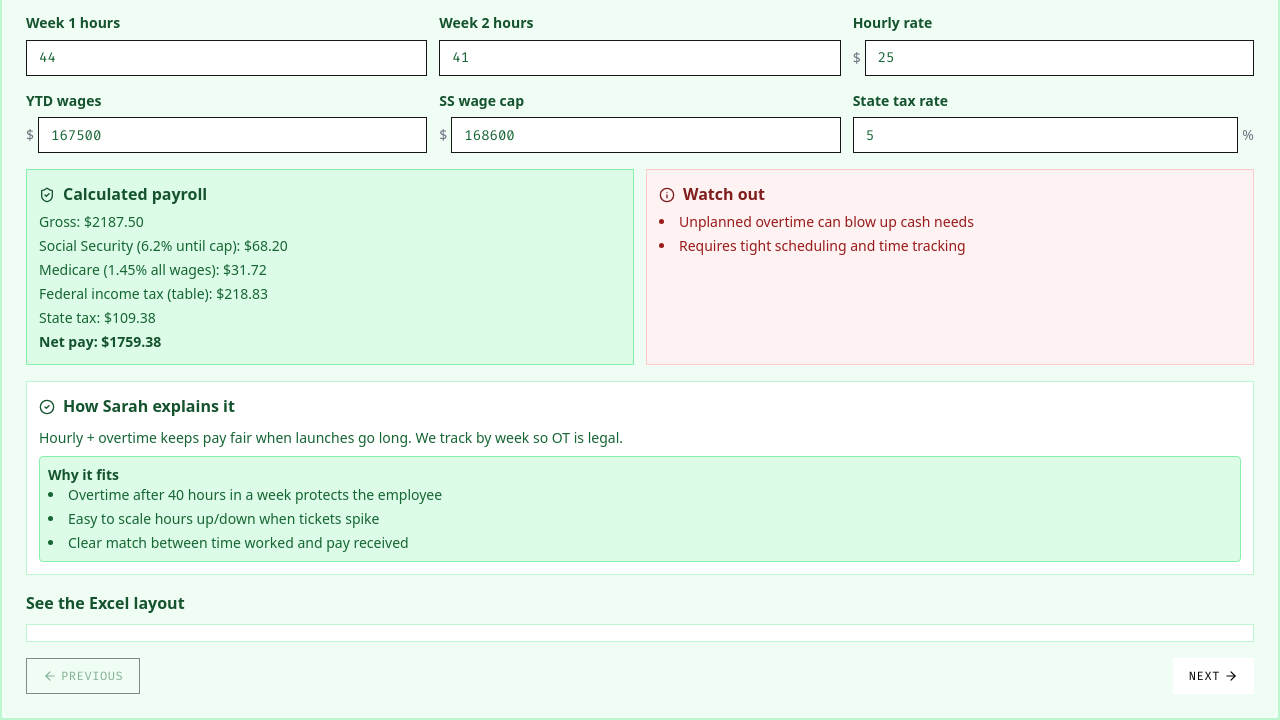
Test case: PayStructureDecisionLab › navigates to next scenario
(page scrolled)
Click the button "Next": {"x": 1213, "y": 676} [1173,658,1254,694]
(page scrolled)
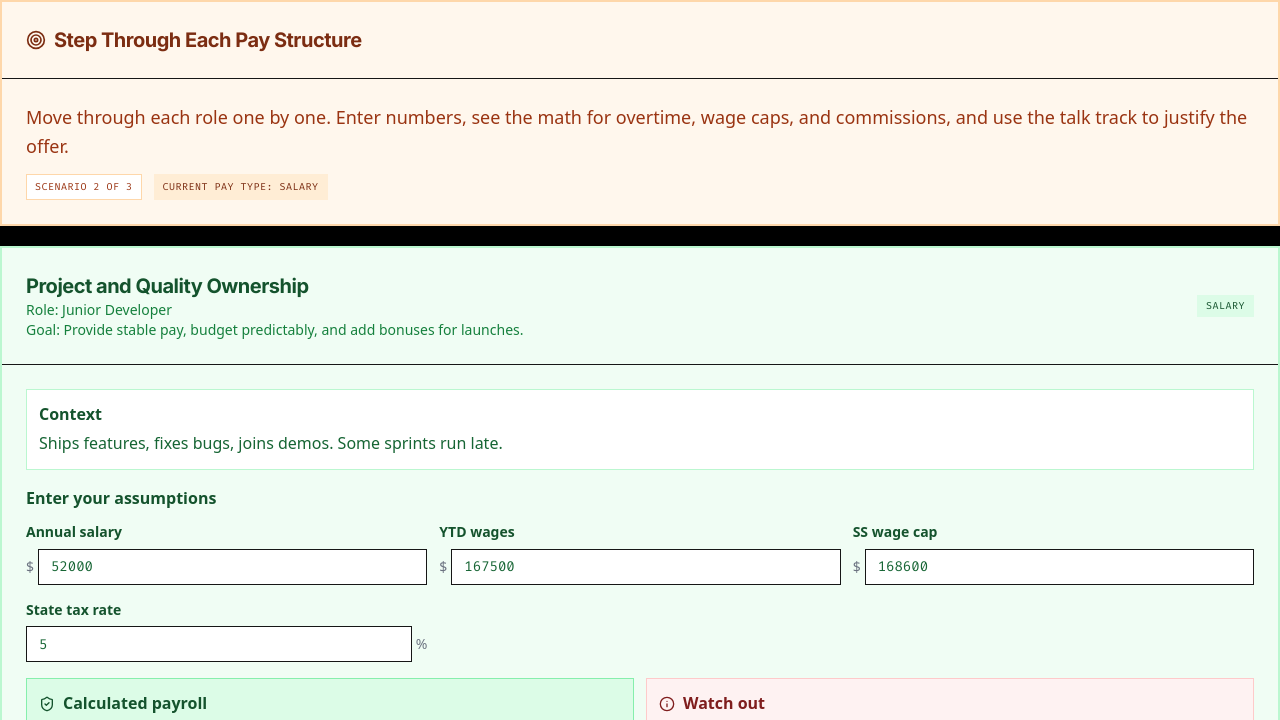
Check: the text "Project and Quality Ownership" is shown, box [26,274,308,298]
